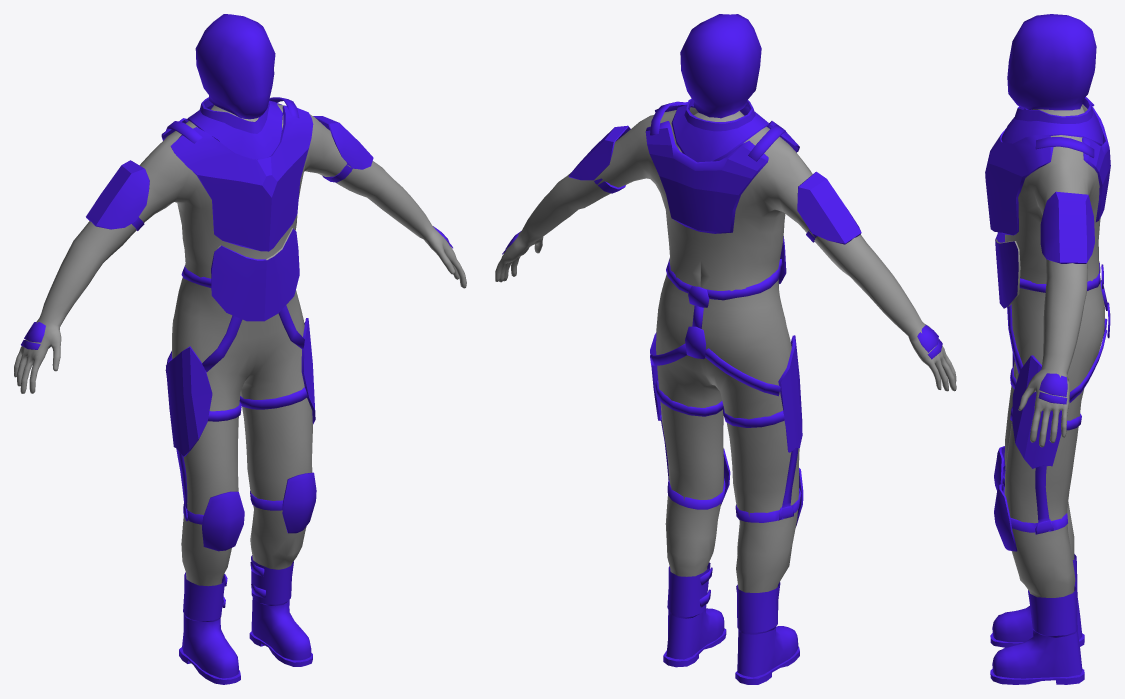
The model's file is Wolf Enemy.FBX.
The picture shows the model from 3 angles, left to right: view 1: azimuth 30°, elevation 25°; view 2: azimuth 150°, elevation 25°; view 3: azimuth 270°, elevation 25°; orthographic projection.
Visible parts, largest first — view 1: SK_WolfEnemy; view 2: SK_WolfEnemy; view 3: SK_WolfEnemy.
Part boxes in pixels (bbox=[...]): SK_WolfEnemy: bbox=[14, 14, 466, 684]; SK_WolfEnemy: bbox=[495, 14, 956, 684]; SK_WolfEnemy: bbox=[985, 14, 1110, 684].
Bounding box in the file's own units: 336 × 457 × 80.93.
